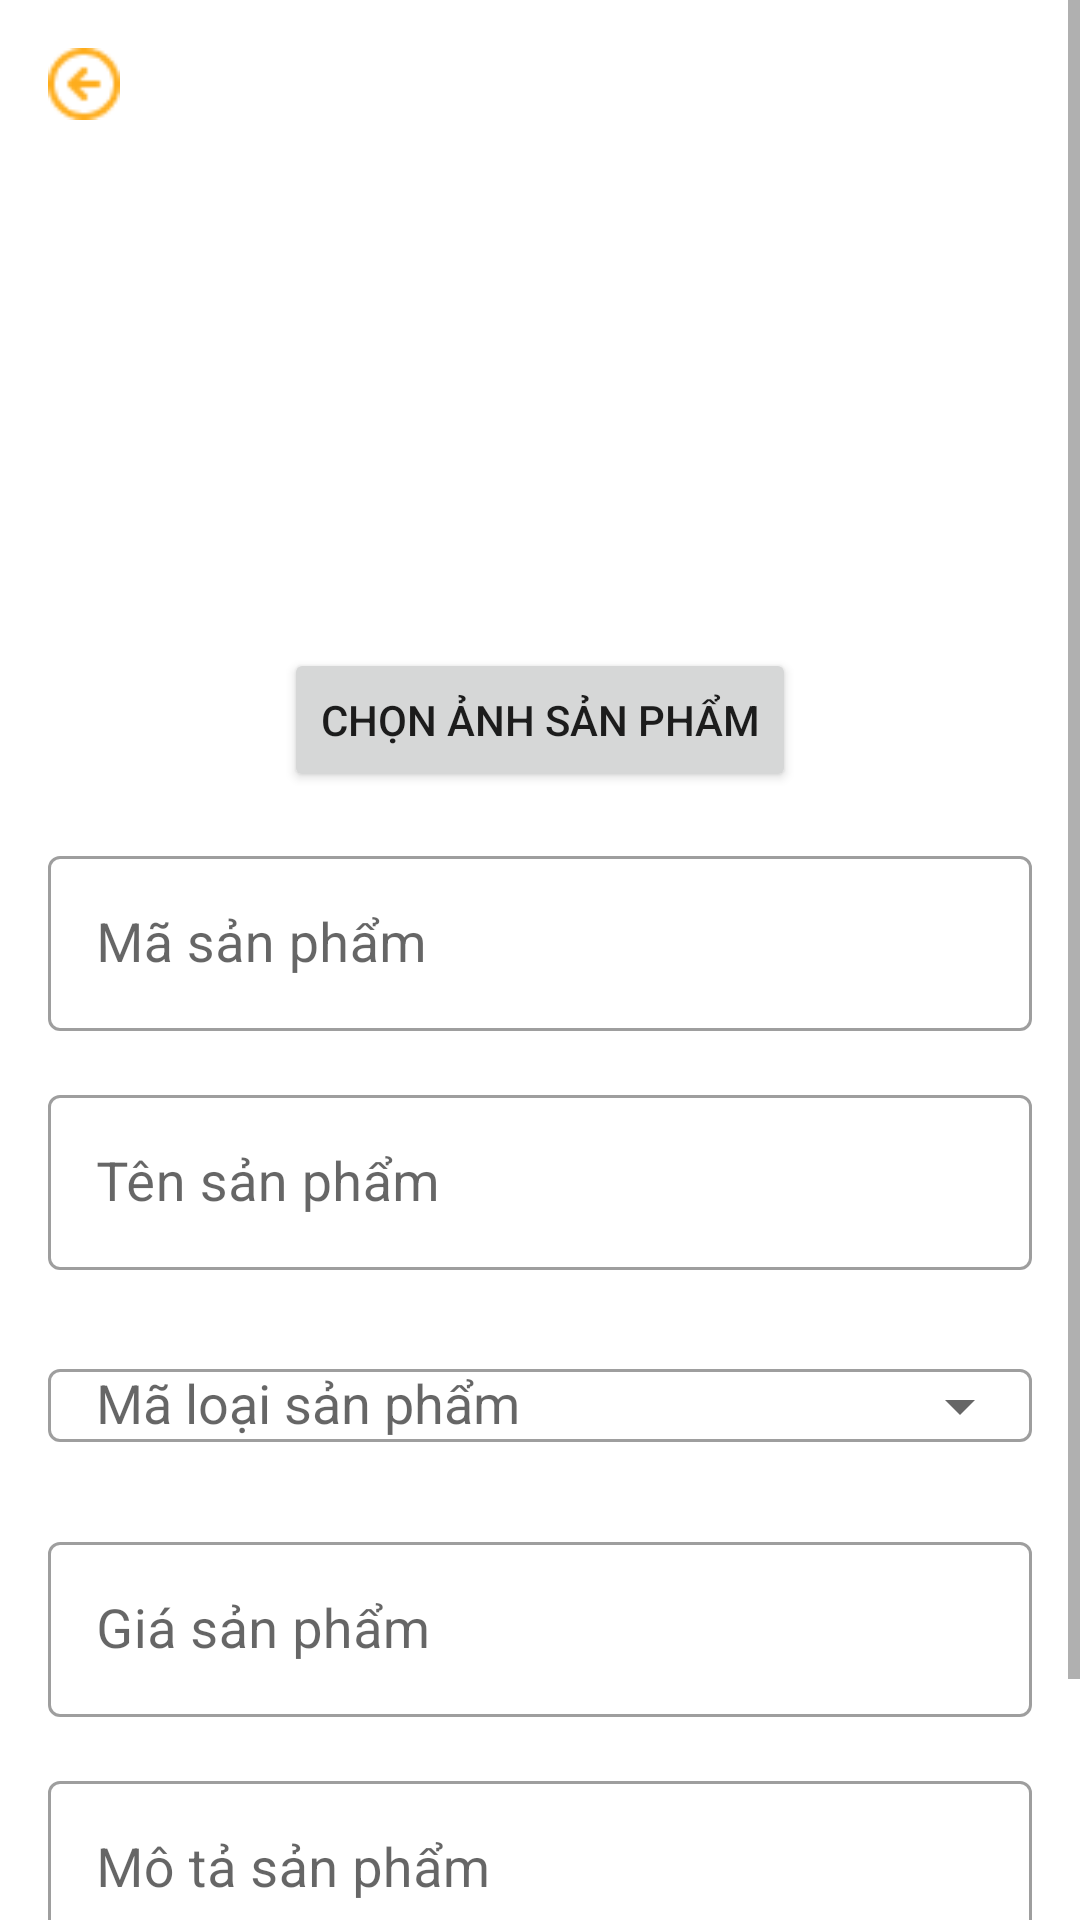

Icons on this 1080 × 1920 Android screen, each with its box as (x1, y1, x2, y2):
Back Arrow: (48, 48, 120, 120)
